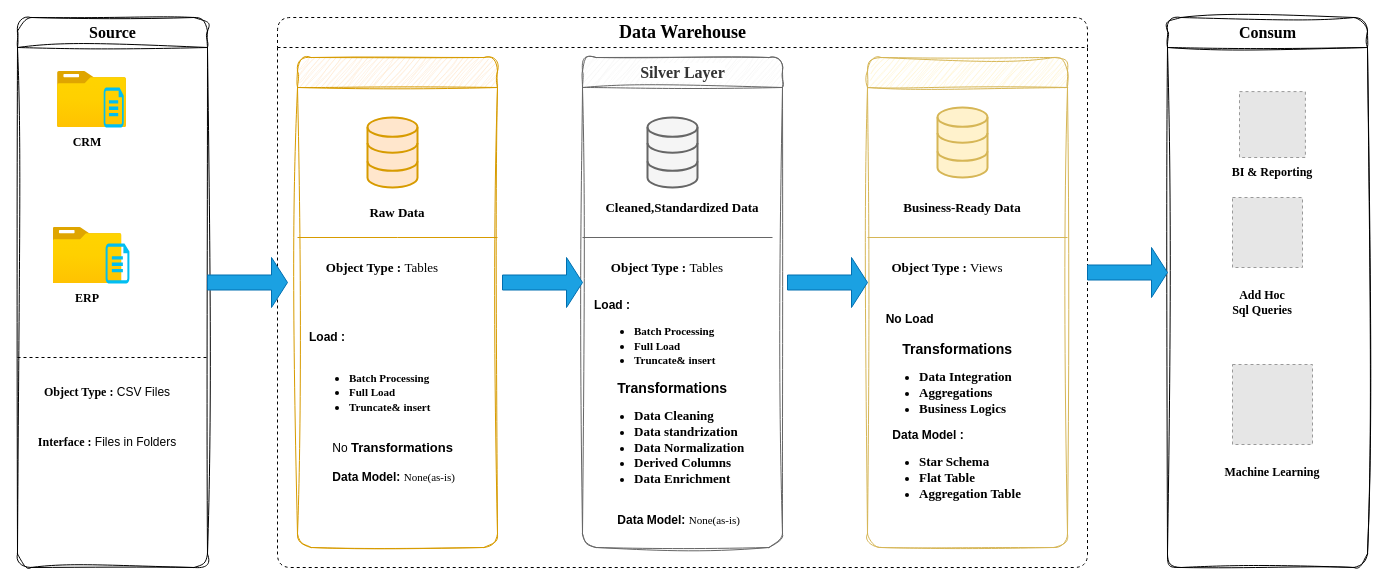
This 1385x585 diagram has some shape labels left out. Grey dashed boxes stand in for pictures. The box of each missing label's shape, as (x1, y1, x2, y2) in pixels:
Bronze Layer: (296, 56, 498, 548)
Gold Layer: (866, 56, 1068, 548)
